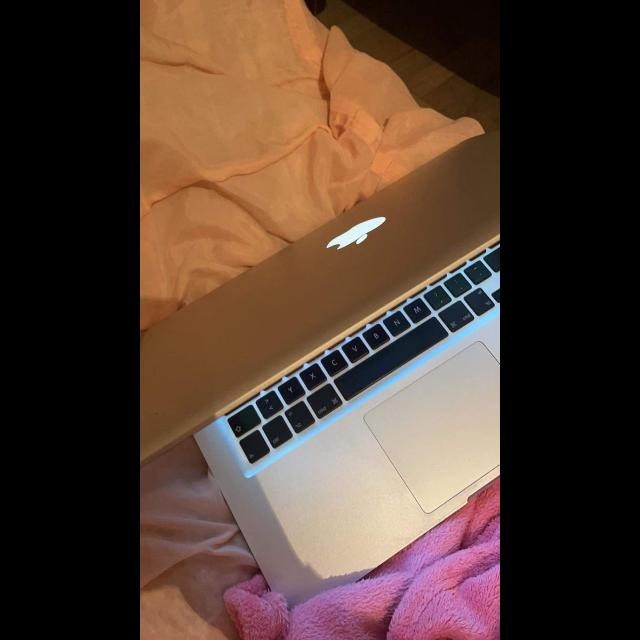laptop: (140, 132, 499, 605)
